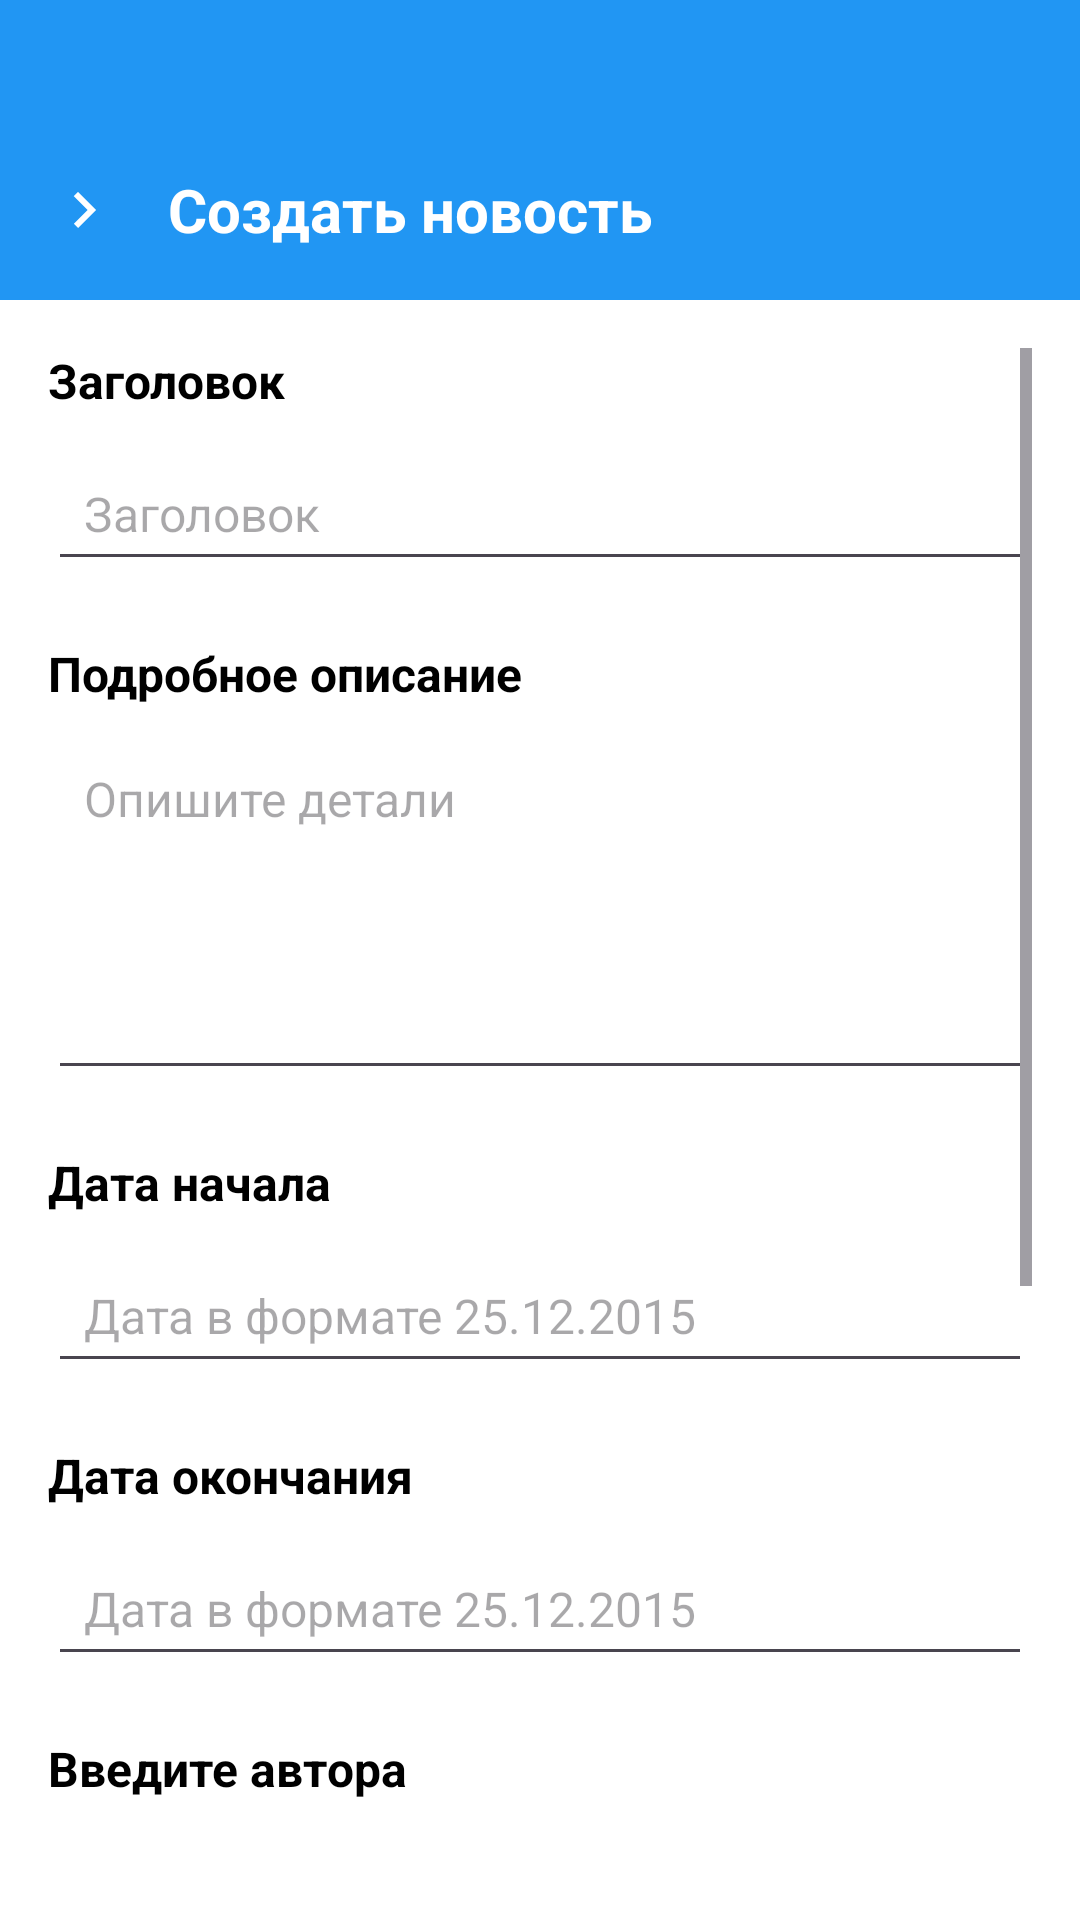

Locate icon controls on the screen. Image size 1080 x 1920, boxes as (x1, y1, x2, y2).
arrow right: (74, 192, 96, 228)
